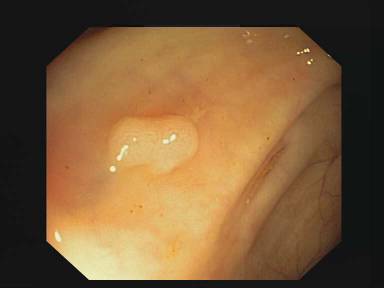polyp: (109, 110, 200, 174)
